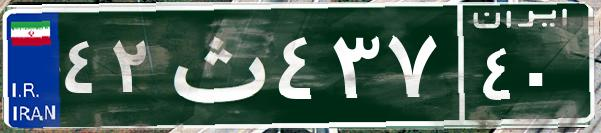0: (525, 38, 570, 115)
2: (110, 28, 158, 105)
3: (330, 28, 385, 110)
4: (273, 28, 330, 110), (57, 26, 110, 107), (475, 38, 525, 113)
7: (385, 28, 445, 110)
ث: (158, 15, 273, 115)
